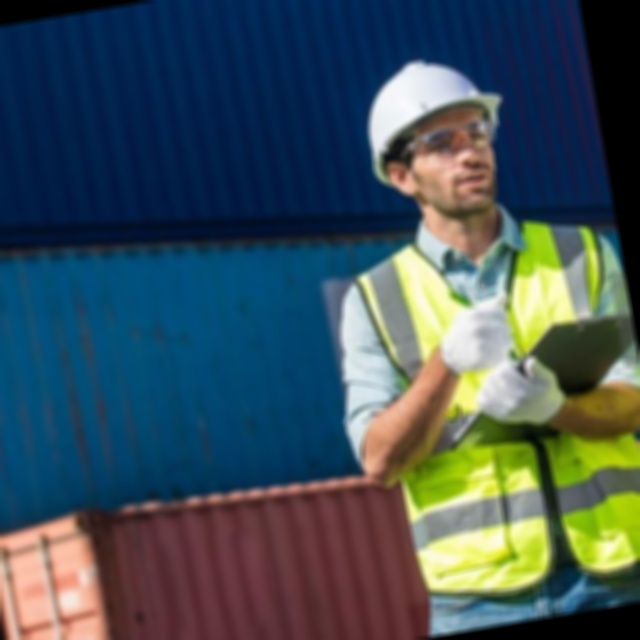Con_Casco: (354, 49, 518, 232)
Con_Chaleco: (346, 201, 640, 609)
